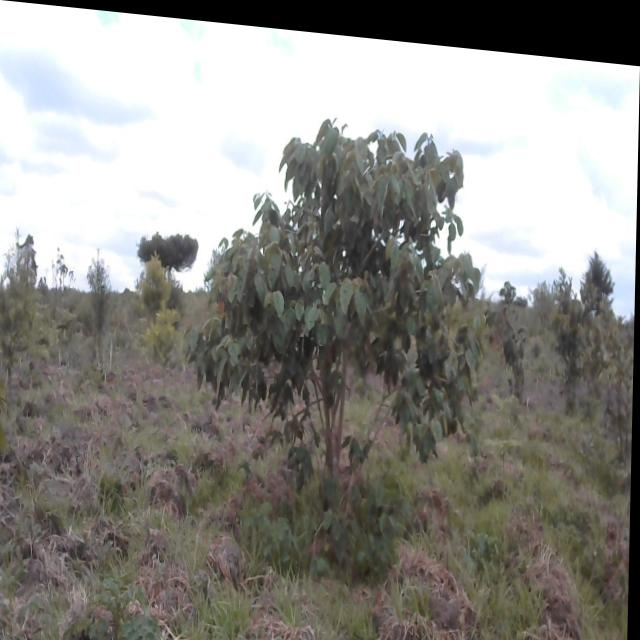Podocarpus falcatus: (0, 226, 44, 397), (144, 299, 184, 372), (136, 252, 174, 312)
cedrus: (580, 230, 620, 299)
other: (187, 92, 497, 524), (136, 223, 200, 285), (81, 240, 116, 346)
